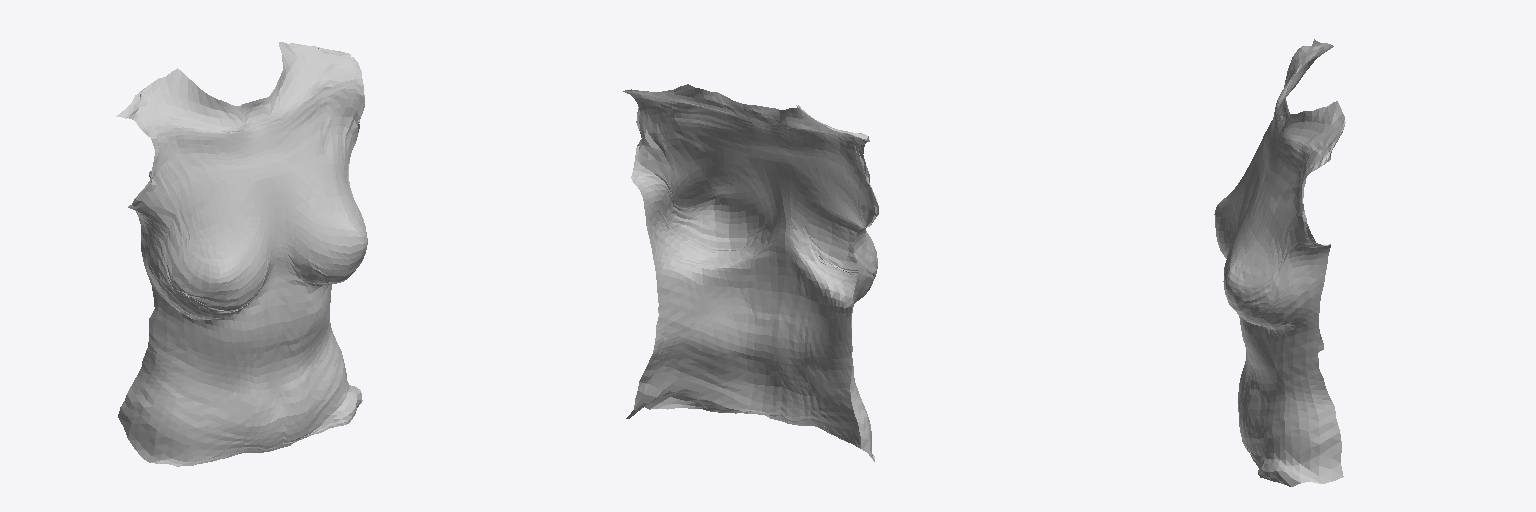
The model's file is Model1_deformed_alpha_1_Template4005.obj.
The picture shows the model from 3 angles: view 1: azimuth 30°, elevation 25°; view 2: azimuth 150°, elevation 25°; view 3: azimuth 270°, elevation 25°; orthographic projection.
Size of the model in its own units: 0.3168 by 0.4503 by 0.1469.